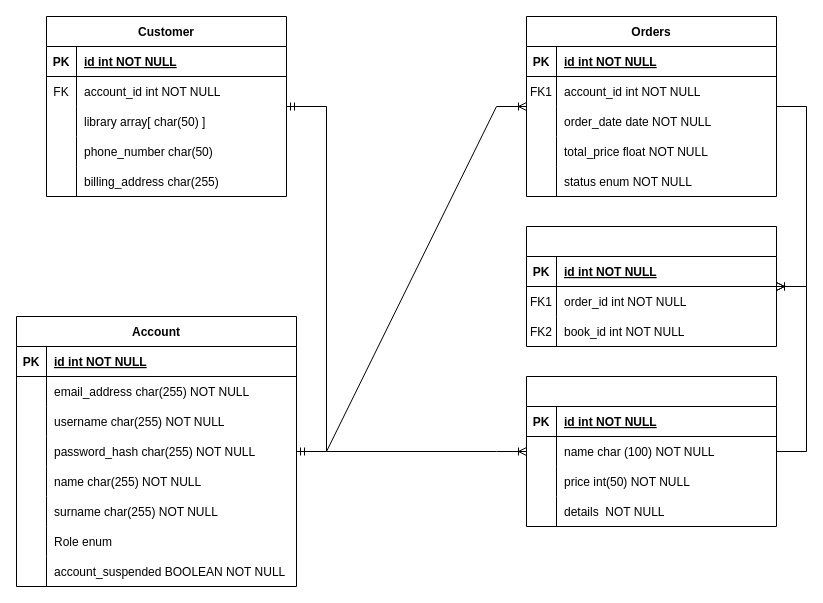
Image size: 823x603. Some labels were removed from this diagram. The box of each missing label's shape, as (x1, y1, x2, y2) in pixels:
Books: (526, 376, 776, 526)
Order Item: (526, 226, 776, 346)
